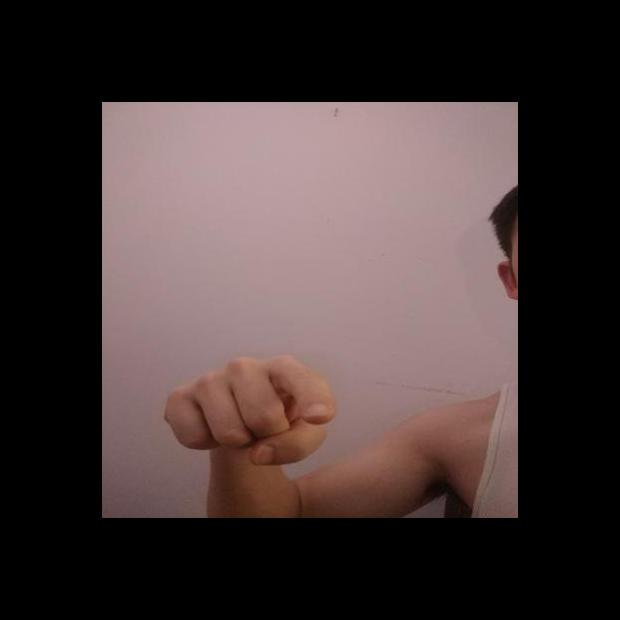Y: (159, 352, 341, 468)
